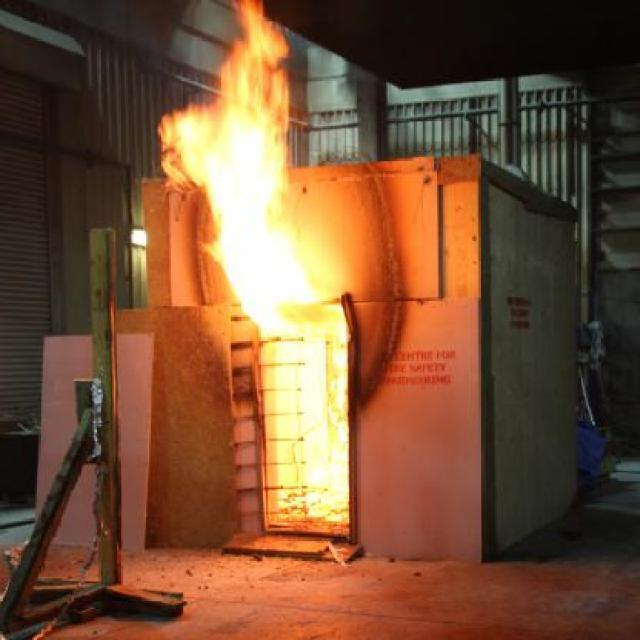Fire: (157, 1, 320, 328)
